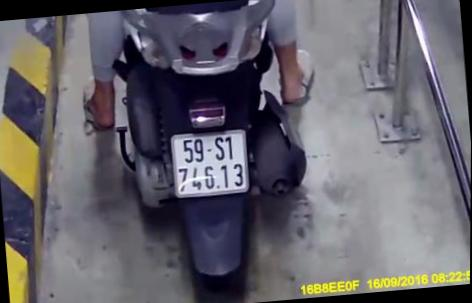LP: (170, 126, 251, 198)
